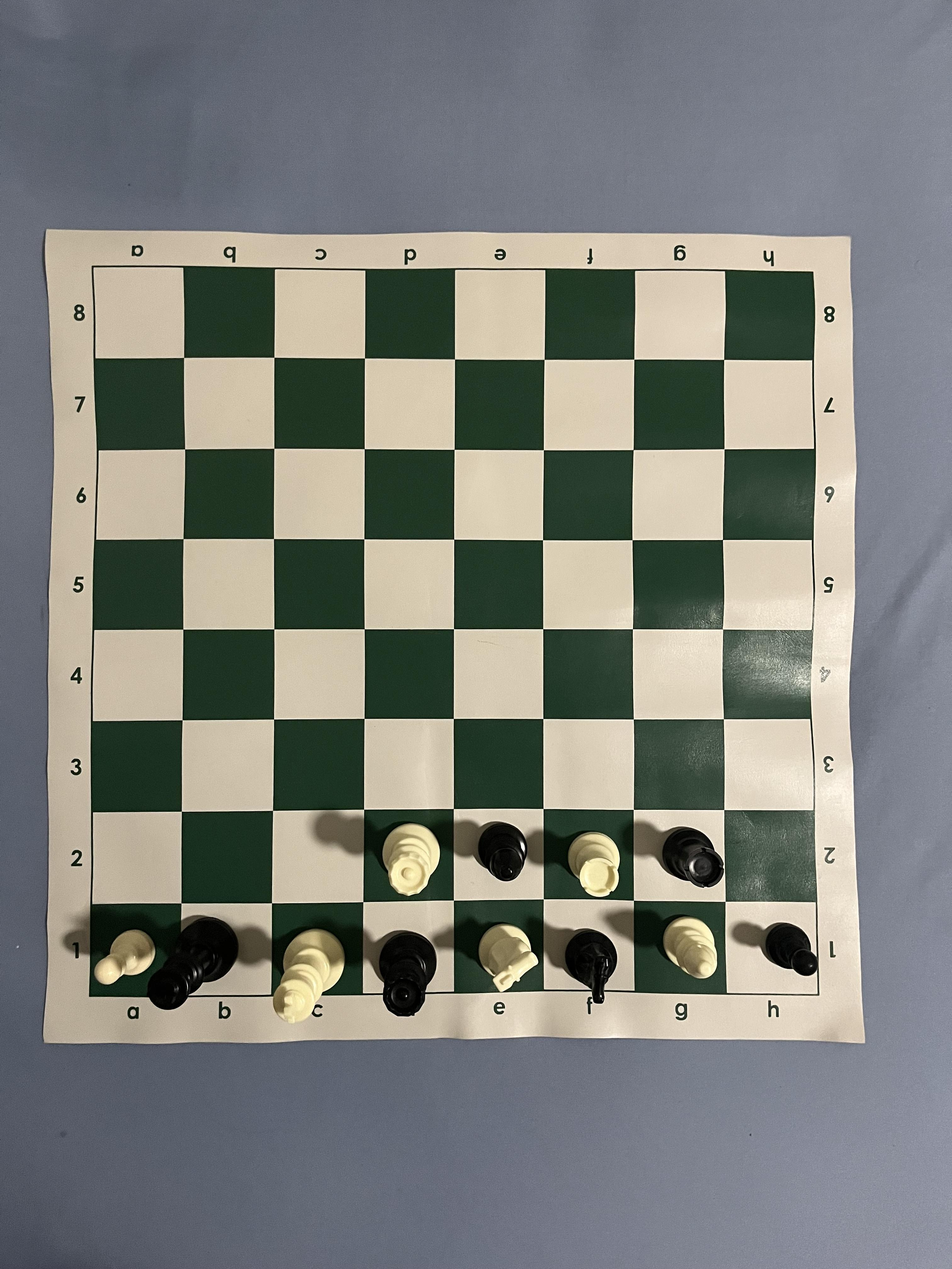black_bishop: (476, 821, 529, 883)
black_king: (148, 917, 241, 1011)
black_knight: (564, 928, 619, 1004)
black_pawn: (763, 922, 819, 979)
black_queen: (377, 929, 439, 1018)
black_rook: (661, 825, 726, 890)
white_bishop: (661, 916, 719, 980)
white_king: (273, 928, 347, 1024)
white_knight: (477, 922, 539, 993)
white_pawn: (94, 929, 156, 986)
white_queen: (381, 822, 442, 897)
white_rook: (566, 830, 621, 899)
